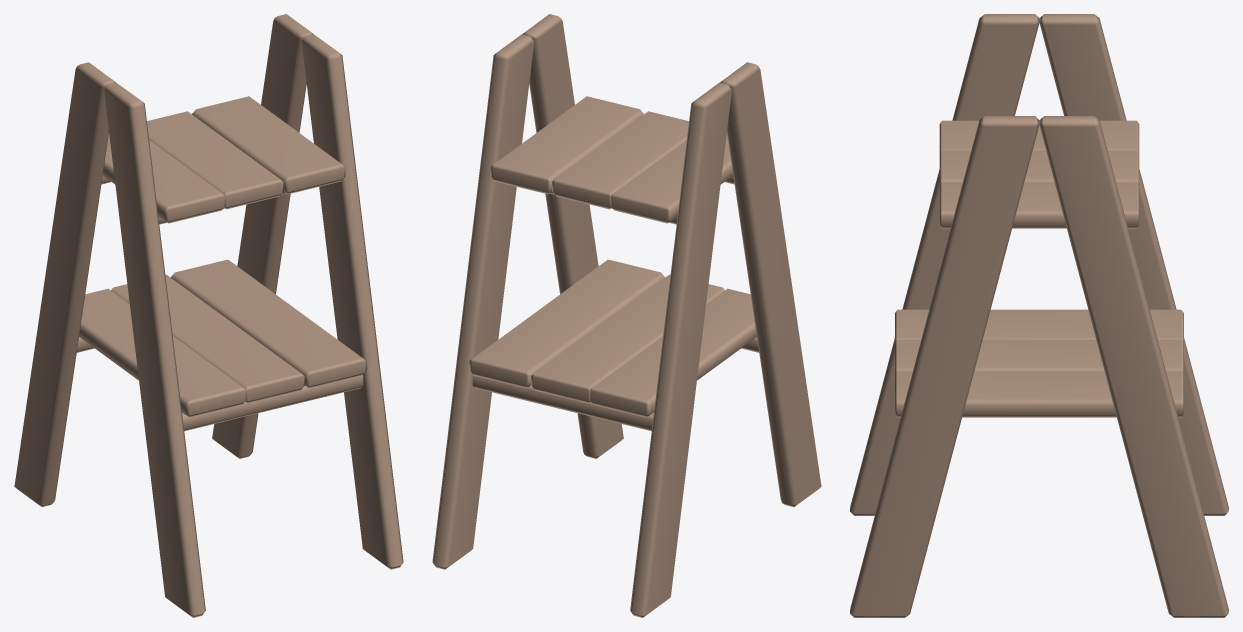
Rendered from Ladder_brown.glb.
3 views of the same model, side by side, from view 1: azimuth 30°, elevation 25°; view 2: azimuth 150°, elevation 25°; view 3: azimuth 270°, elevation 25° (orthographic). The views are drawn at different scales.
Visible parts, largest first — view 1: Ladder_1; view 2: Ladder_1; view 3: Ladder_1.
Boxes of the visible parts, left/top/right/bottom form: Ladder_1: left=14, top=14, right=403, bottom=617; Ladder_1: left=432, top=14, right=821, bottom=617; Ladder_1: left=850, top=14, right=1228, bottom=617.
Bounding box in the file's own units: 0.8486 × 1.78 × 1.23.
1 material, 1 textured.
